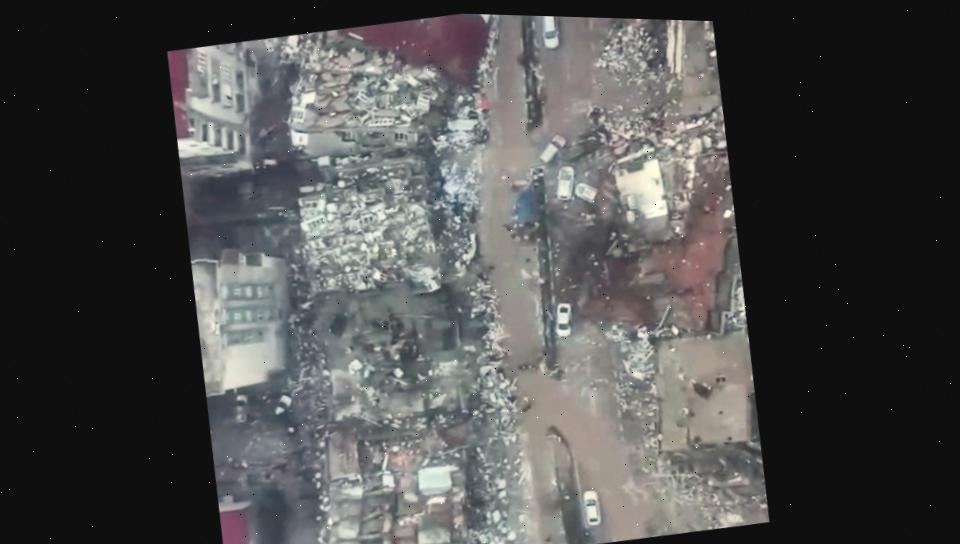kapali: (542, 99, 662, 349), (448, 14, 537, 265), (536, 16, 644, 108)
